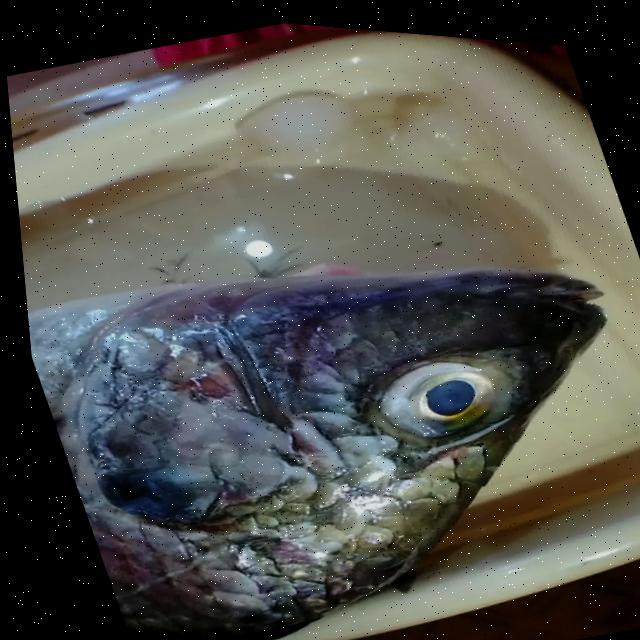Fresh: (332, 316, 536, 462)
